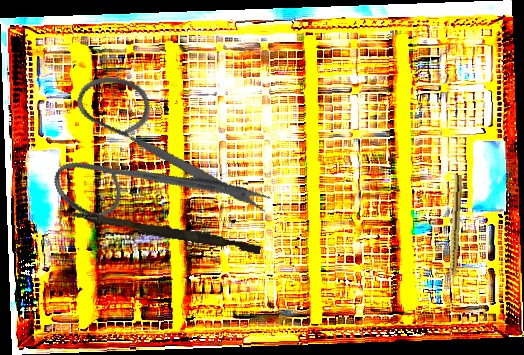Handpiece: (446, 174, 463, 286)
Iris Scissors: (26, 35, 279, 277)
Pusher: (63, 209, 262, 255)
